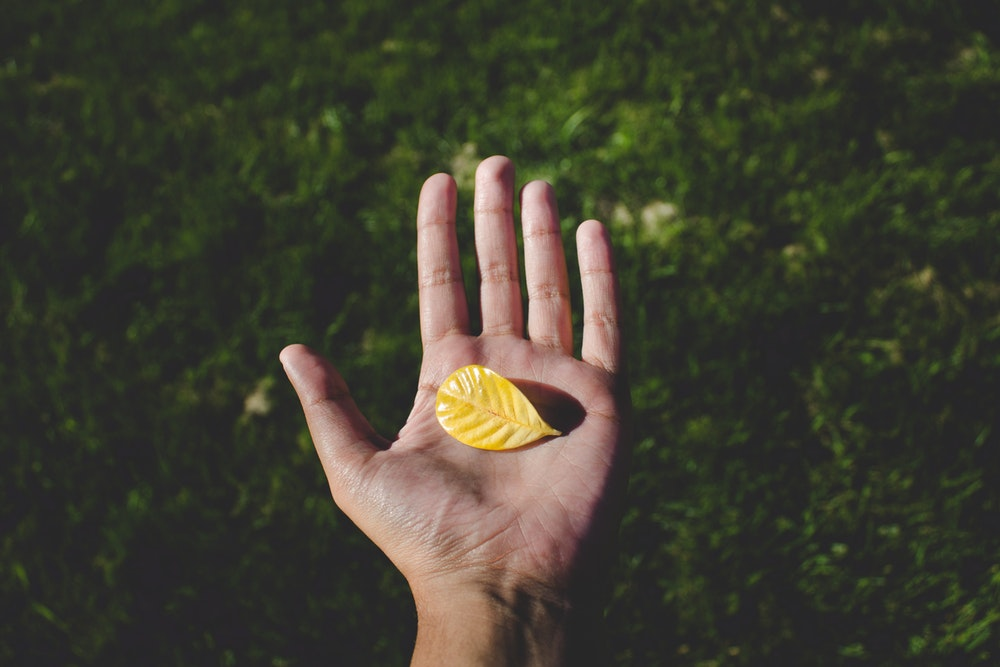palm: (410, 341, 616, 605)
